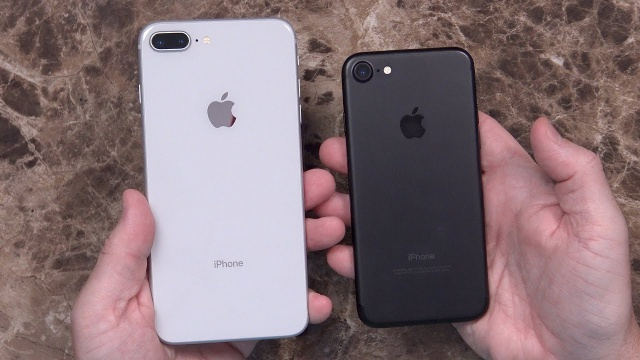apple: (184, 90, 247, 142), (393, 96, 440, 149)
